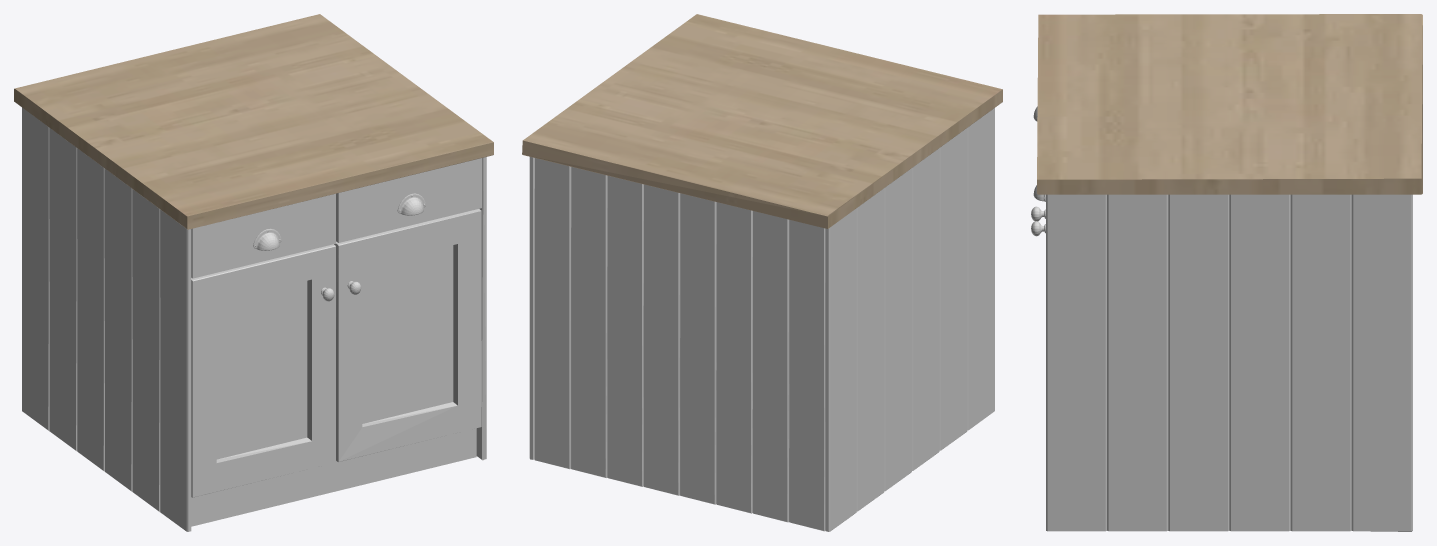
Rendered from sh-bsby-kitchen-island.glb.
3 renders of one model, left to right at view 1: azimuth 30°, elevation 25°; view 2: azimuth 150°, elevation 25°; view 3: azimuth 270°, elevation 25°, orthographic. The views are drawn at different scales.
Visible parts, largest first — view 1: Island-base-trim_Cube.023, Worktop-Island_Cube.052, Cup-Handle-Island_Sphere.011; view 2: Island-base-trim_Cube.023, Worktop-Island_Cube.052; view 3: Island-base-trim_Cube.023, Worktop-Island_Cube.052, Cup-Handle-Island_Sphere.011.
Part boxes in pixels (left/top/right/bottom): Island-base-trim_Cube.023: left=22, top=107, right=486, bottom=531; Worktop-Island_Cube.052: left=14, top=14, right=493, bottom=229; Cup-Handle-Island_Sphere.011: left=253, top=193, right=425, bottom=301; Island-base-trim_Cube.023: left=529, top=108, right=994, bottom=531; Worktop-Island_Cube.052: left=522, top=14, right=1002, bottom=228; Island-base-trim_Cube.023: left=1046, top=194, right=1412, bottom=531; Worktop-Island_Cube.052: left=1037, top=14, right=1422, bottom=194; Cup-Handle-Island_Sphere.011: left=1031, top=106, right=1045, bottom=236.
Size of the model in its own units: 0.9974 by 1 by 1.
3 materials, 1 textured.
